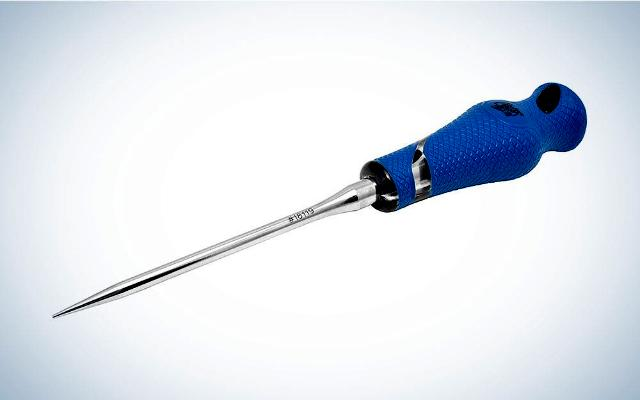ice pick: (51, 82, 586, 320)
